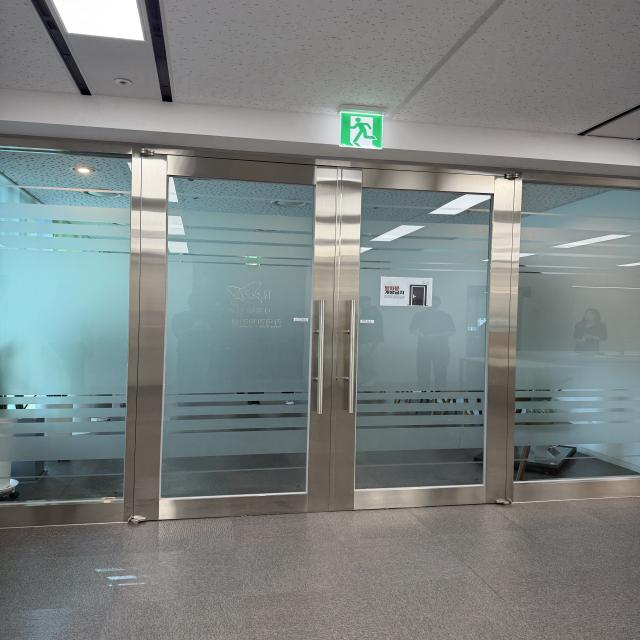front_door: (0, 138, 640, 527)
